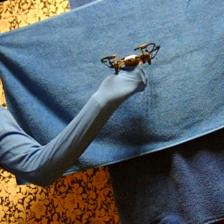drone: (101, 42, 161, 76)
